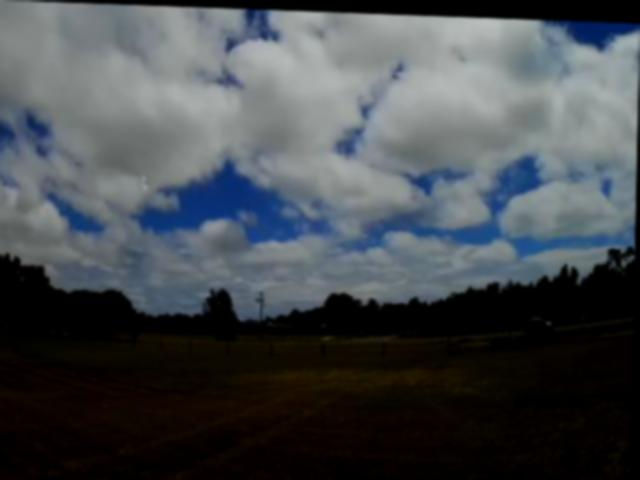uav: (134, 168, 152, 195)
